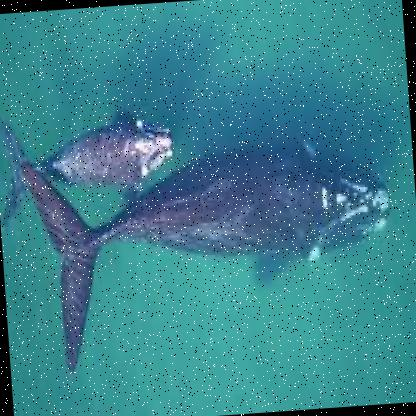blue_whale: (36, 145, 414, 378)
